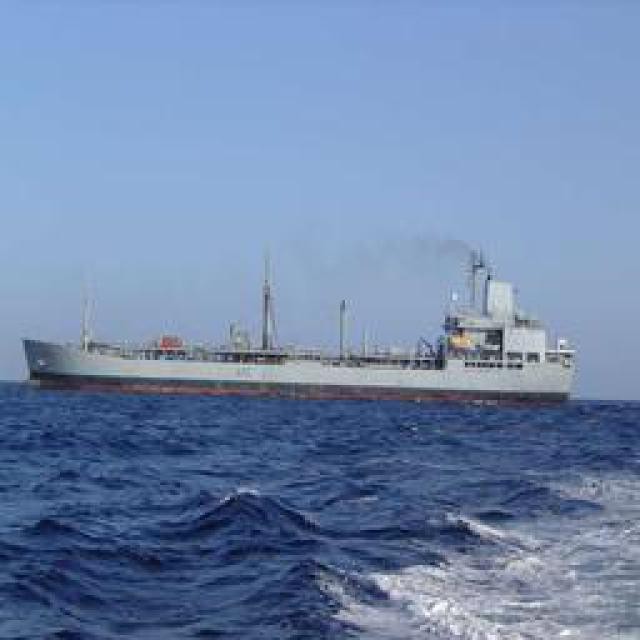Ship: (1, 247, 571, 407)
